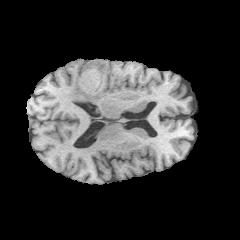glioma: (70, 60, 124, 103)
